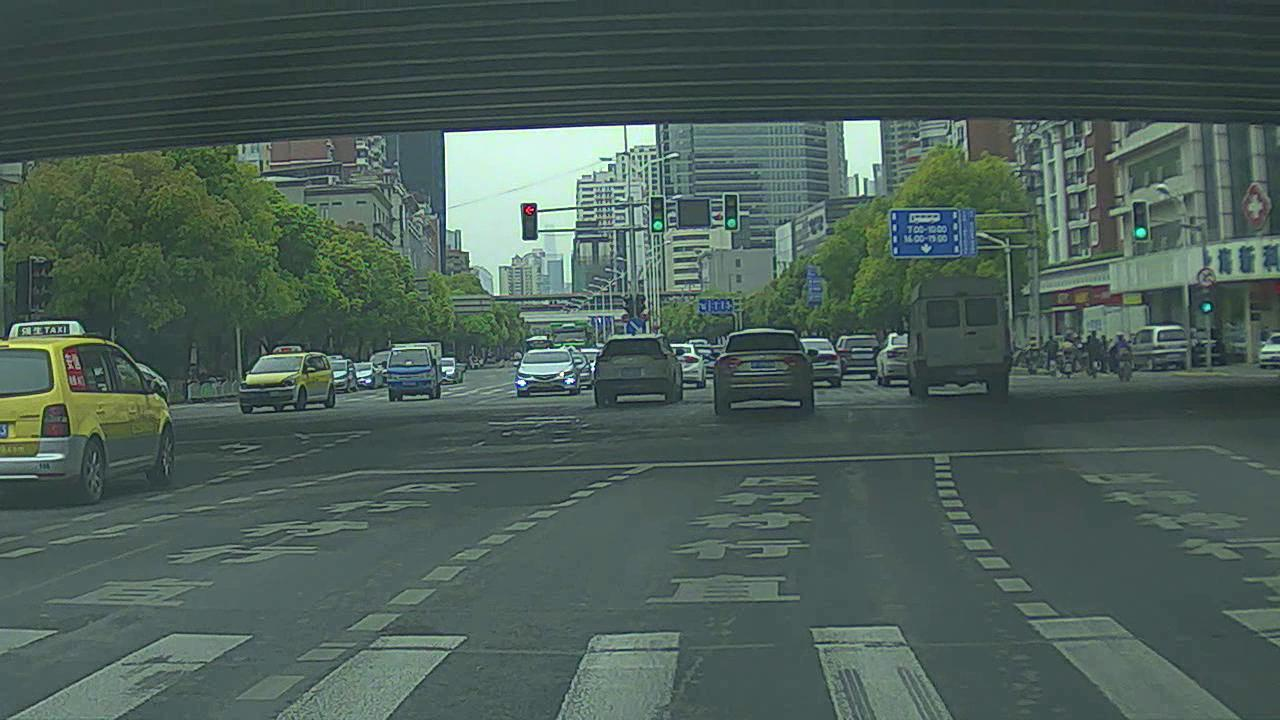traffic_light: (522, 202, 540, 242), (1134, 202, 1150, 244), (724, 196, 740, 232), (652, 196, 666, 235)
